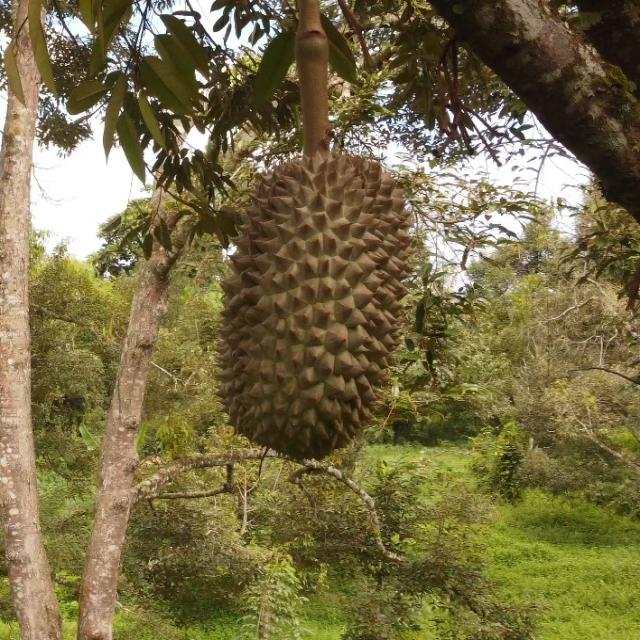mature: (213, 148, 412, 466)
